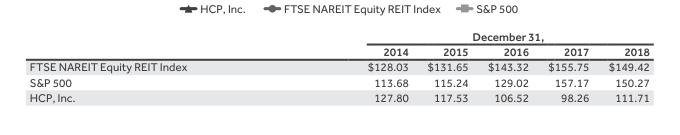table: (28, 28, 648, 103)
table column: (28, 28, 276, 103), (276, 28, 417, 103), (537, 28, 598, 103), (417, 28, 477, 103), (477, 28, 537, 103), (598, 28, 648, 103)
table column header: (28, 28, 648, 58)
table row: (28, 58, 648, 74), (28, 28, 648, 43), (28, 43, 648, 58), (28, 74, 648, 89), (28, 89, 648, 103)
table spanning cell: (276, 28, 648, 43)
